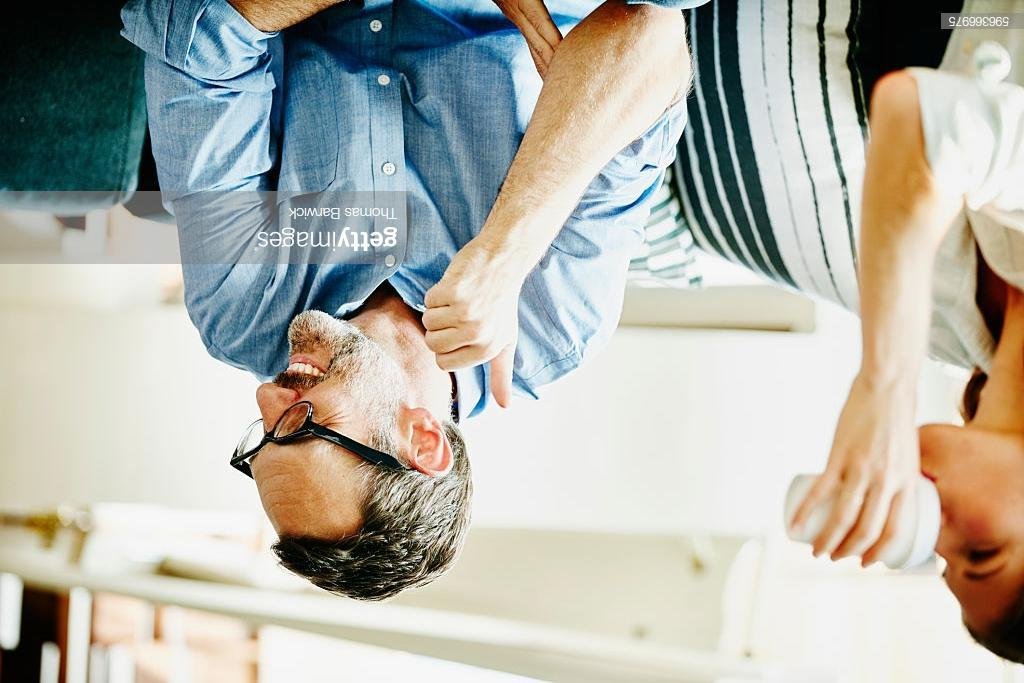thumbsdown: (423, 287, 516, 409)
